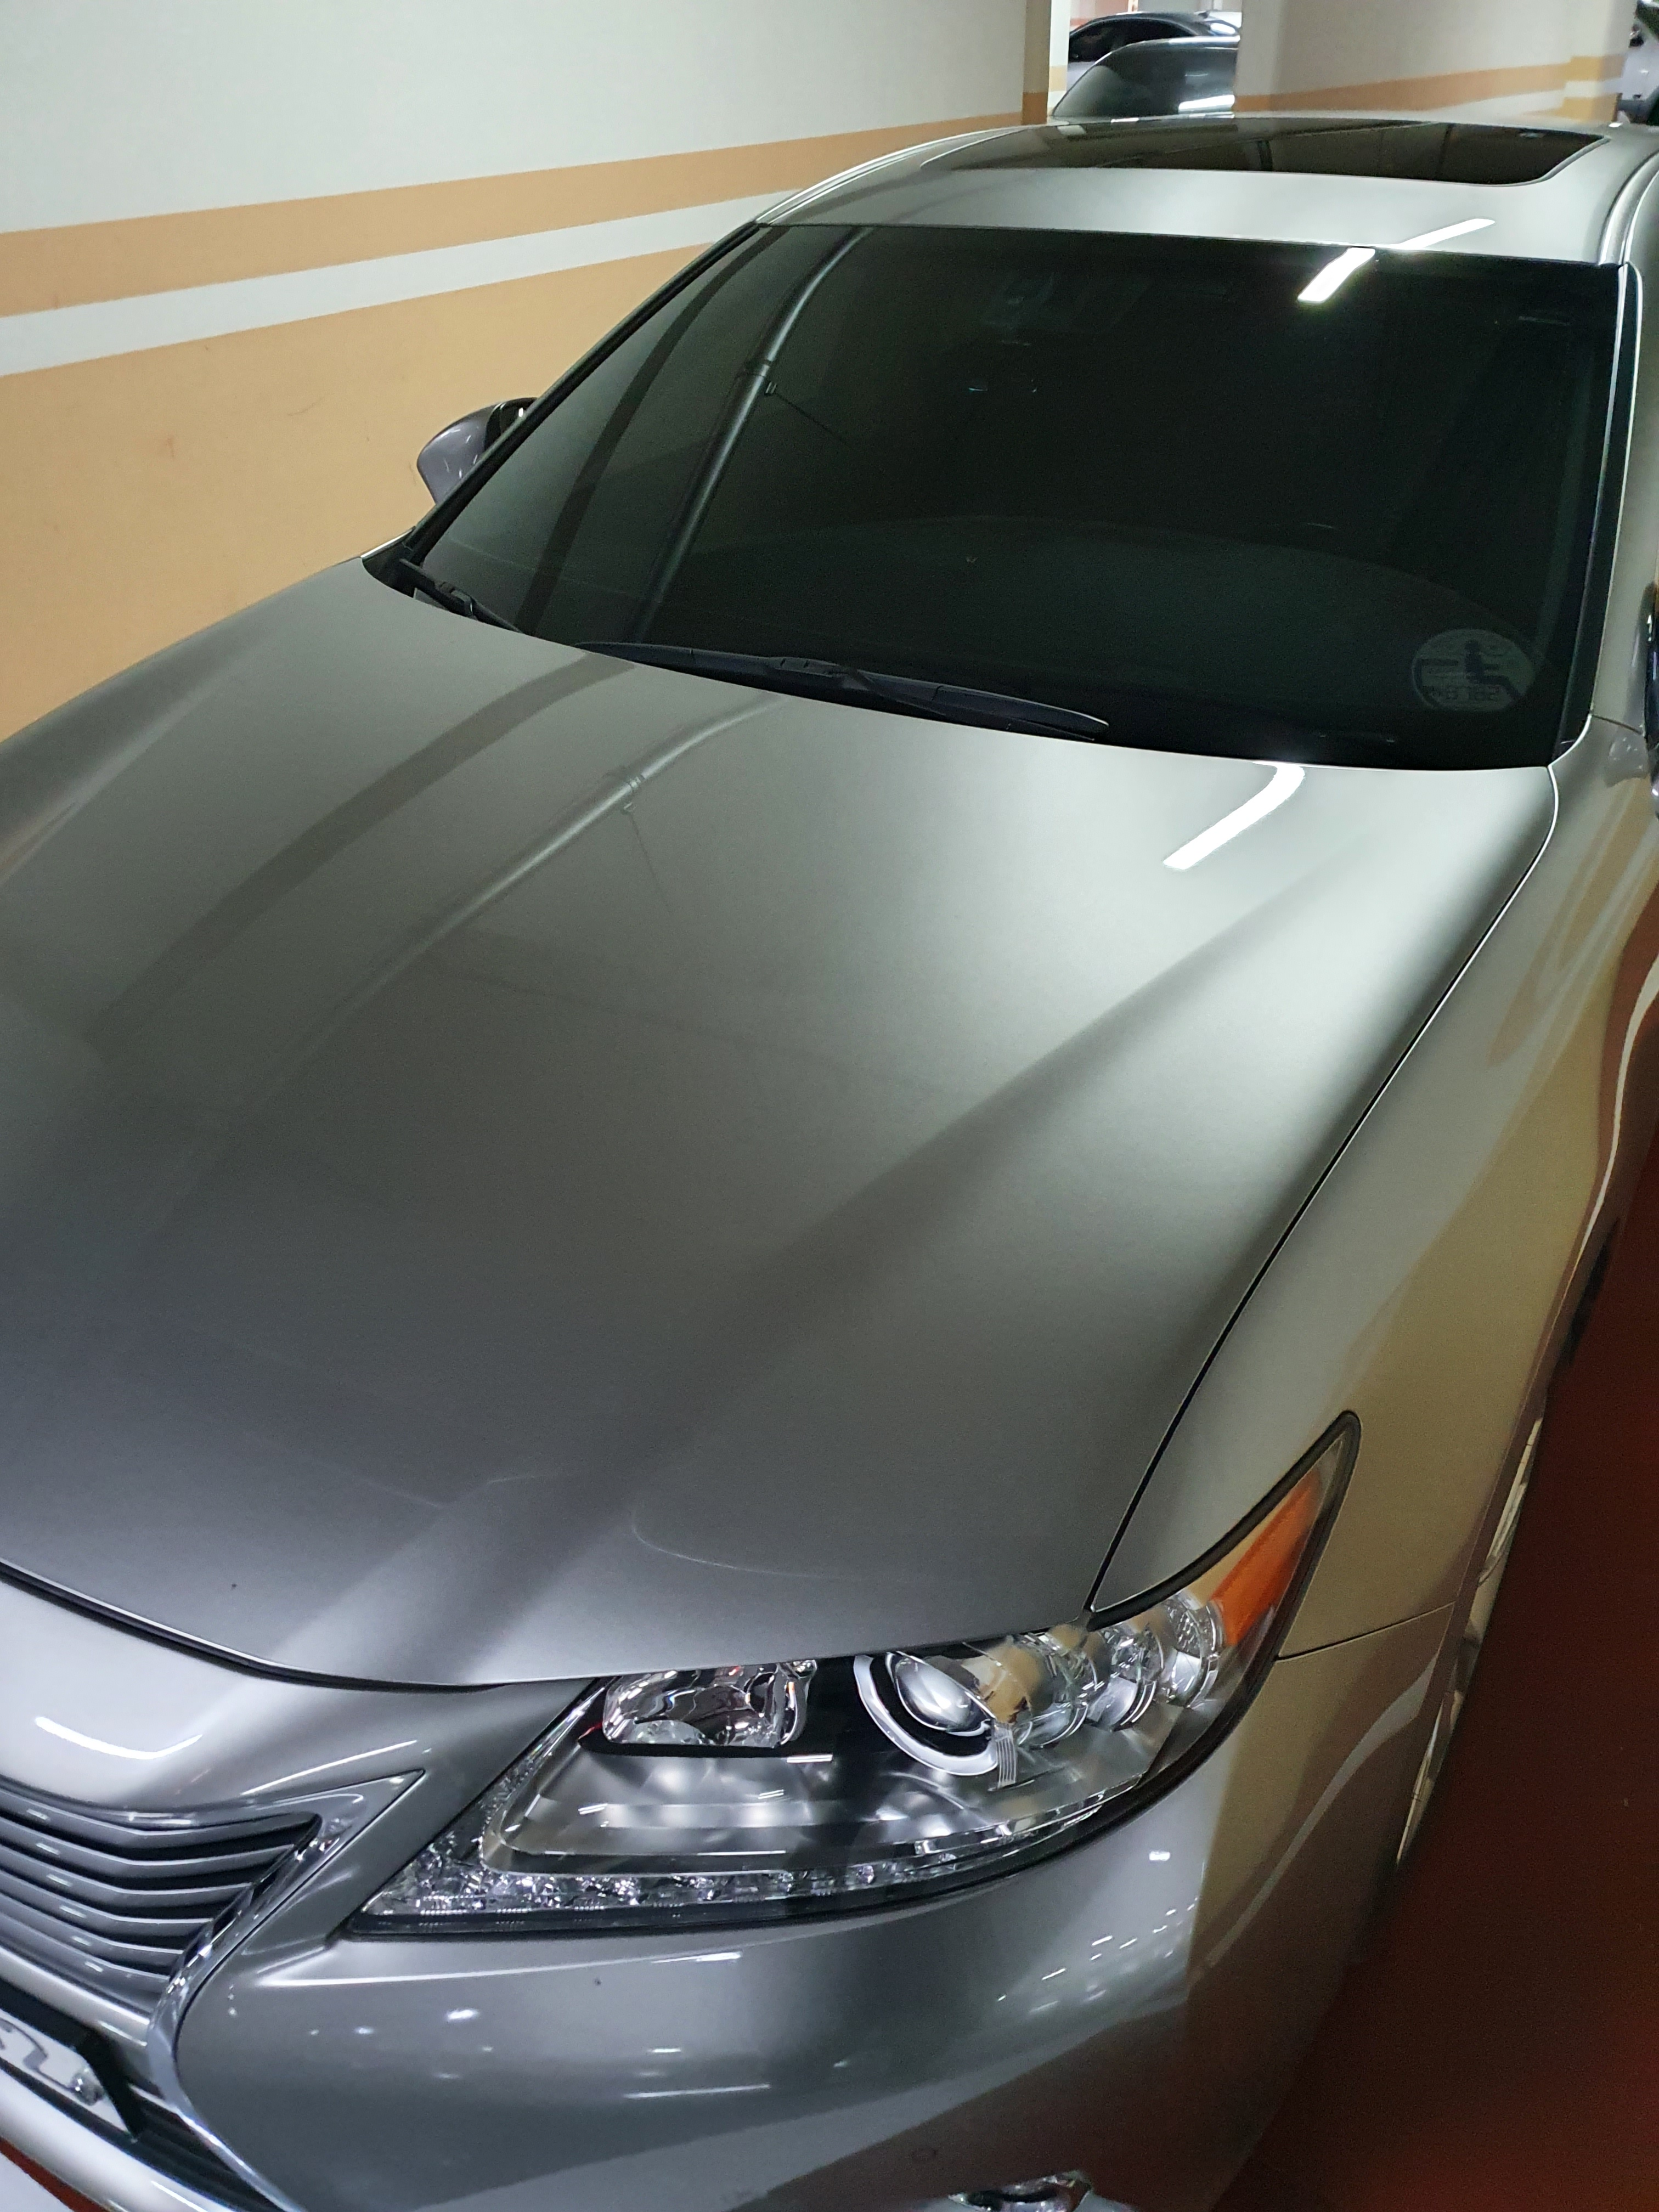disabled_parking: (1413, 624, 1539, 719)
